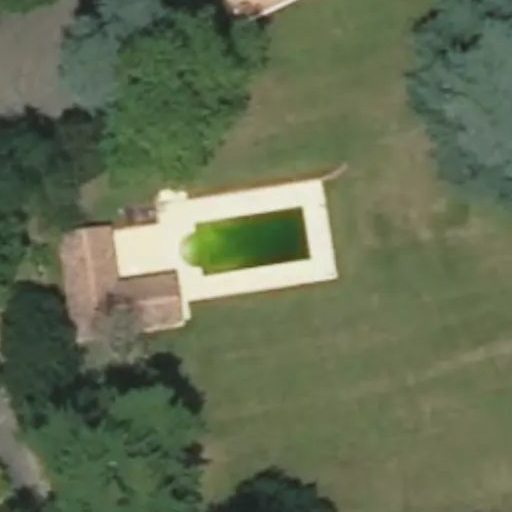pool: (196, 223, 315, 260)
